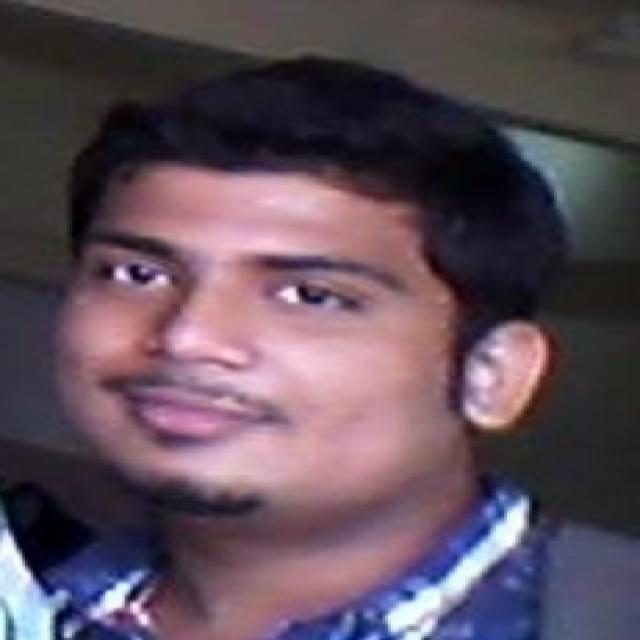Nonhelmet: (29, 37, 587, 546)
